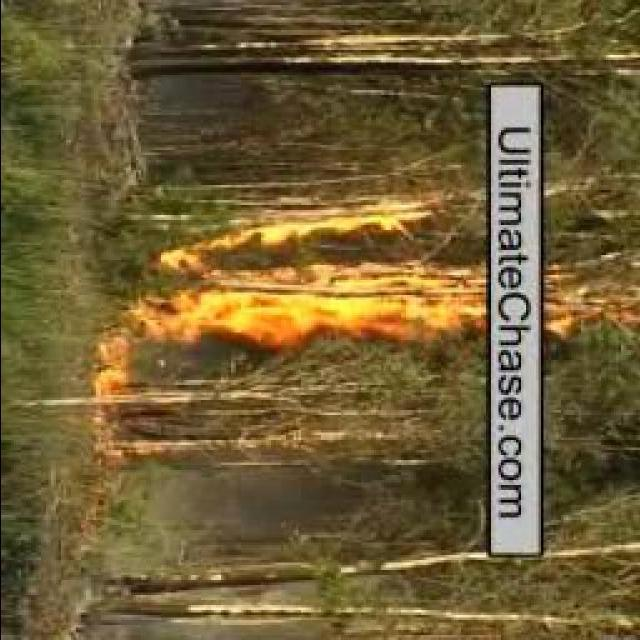Fire: (152, 203, 490, 351), (548, 266, 626, 328), (92, 334, 130, 398)
